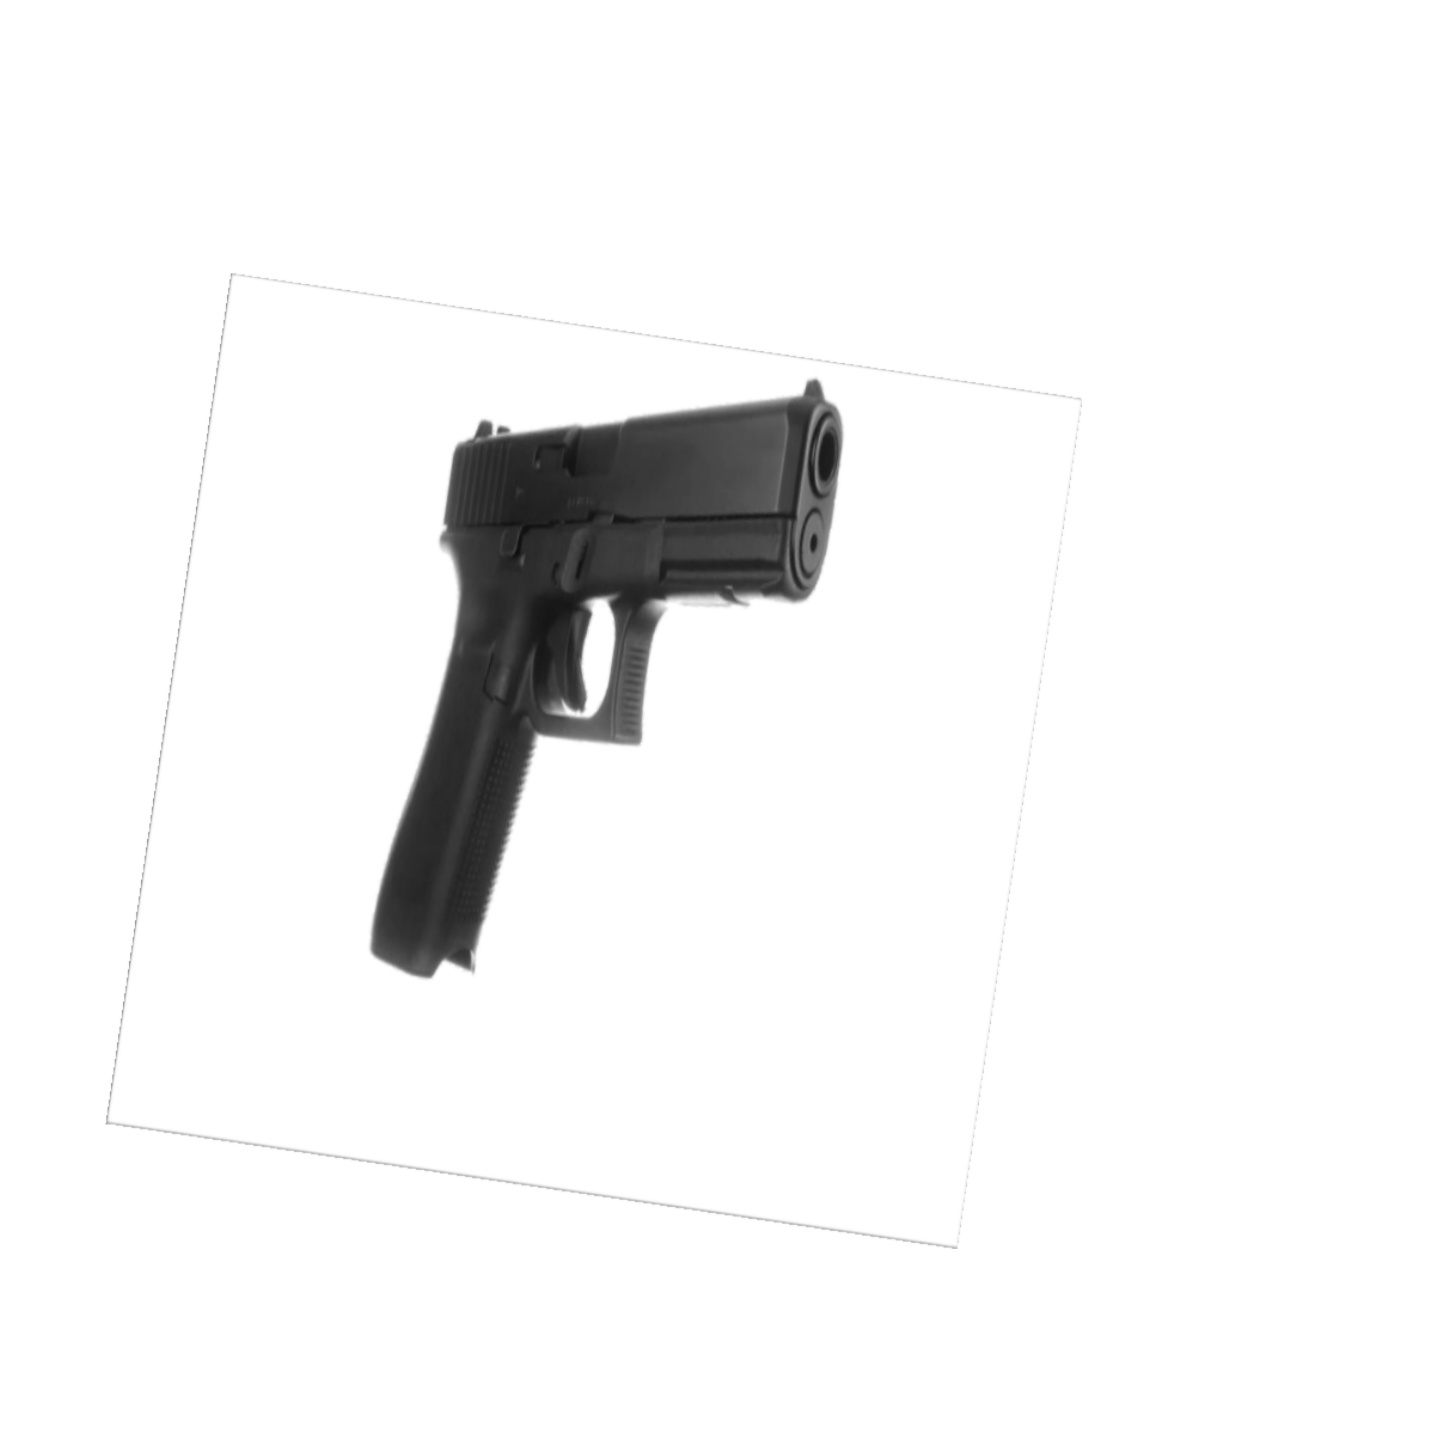gun: (352, 369, 848, 990)
